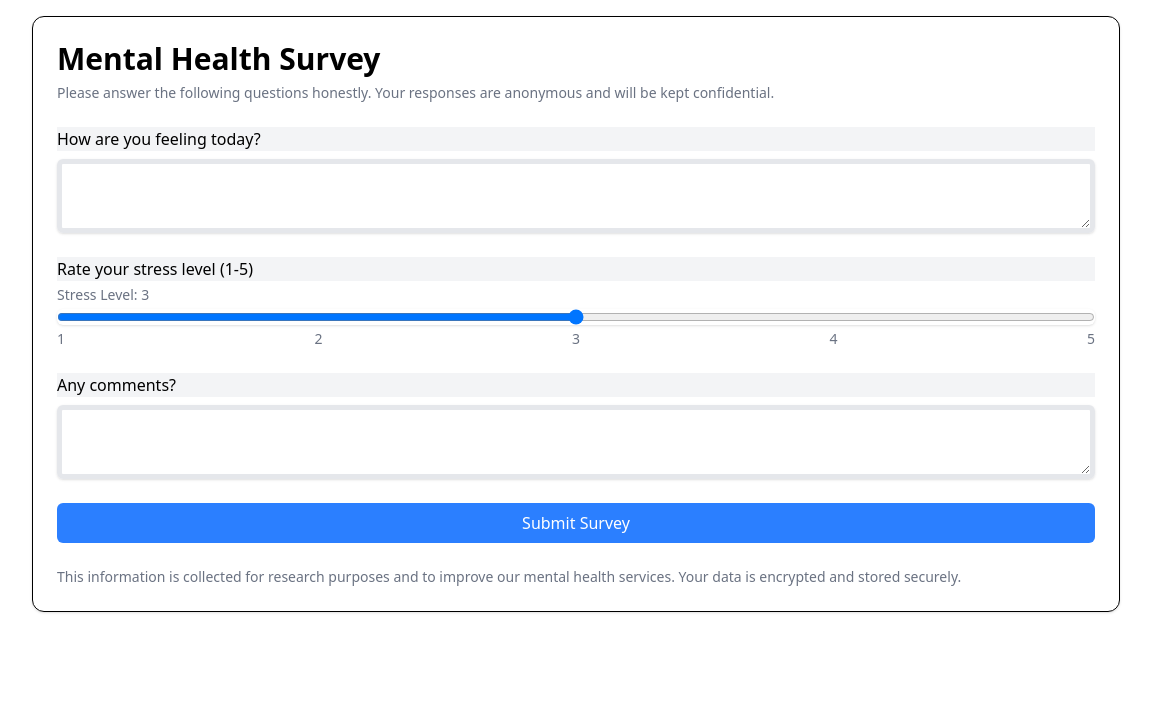
Test: SurveyForm › shows validation errors when required fields are empty
Click the button "Submit Survey" at (576, 523), box top-left (57, 503), bottom-right (1095, 543)
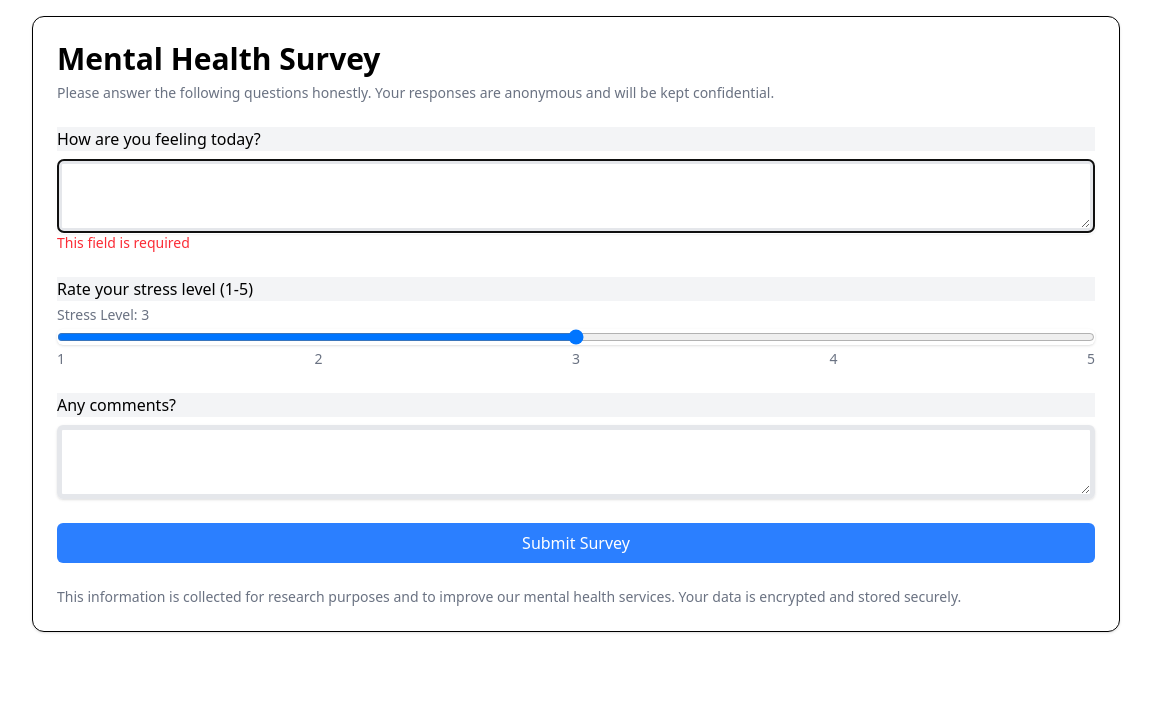
Expected: the text "This field is required" is shown, top-left (57, 233), bottom-right (190, 252)
